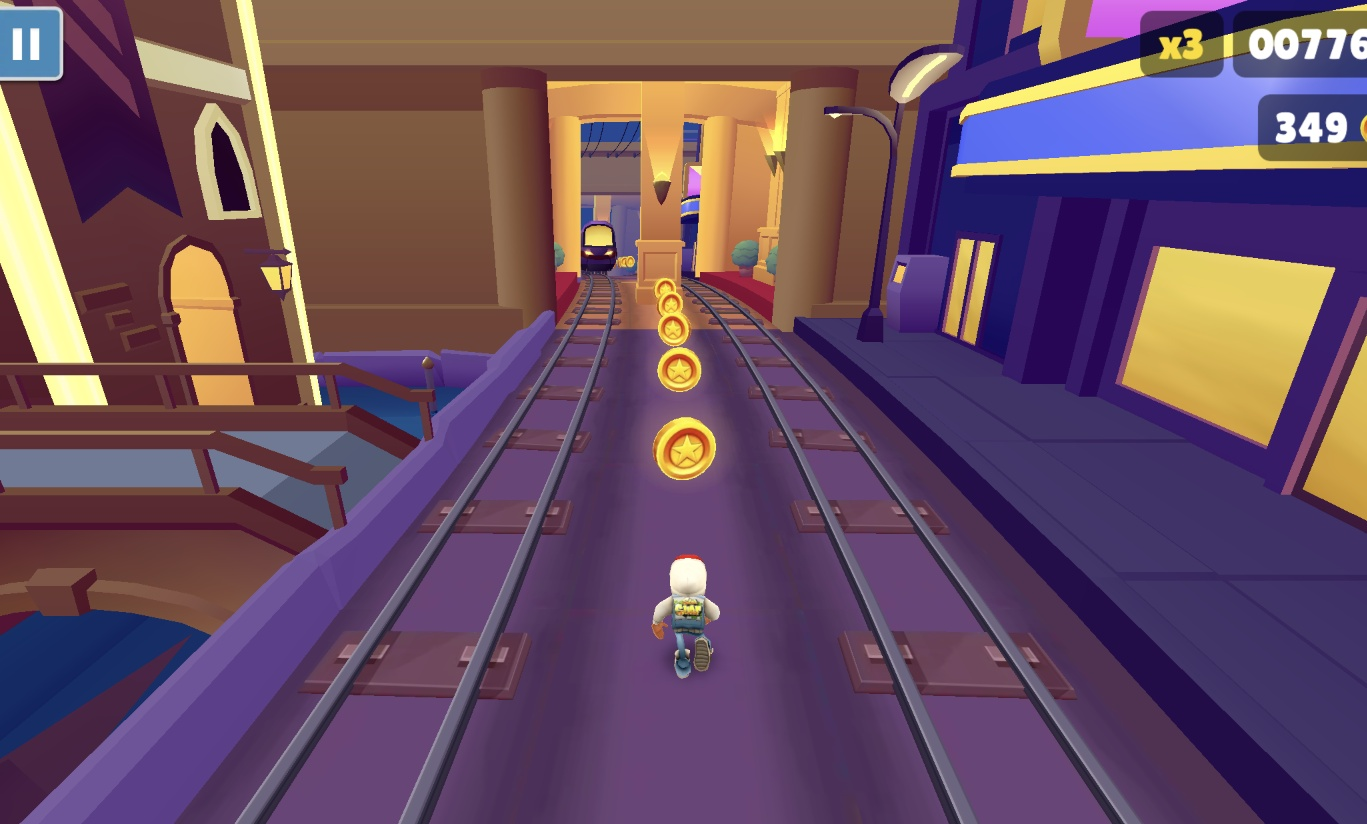pillar: (636, 82, 685, 308)
train: (579, 220, 620, 276)
